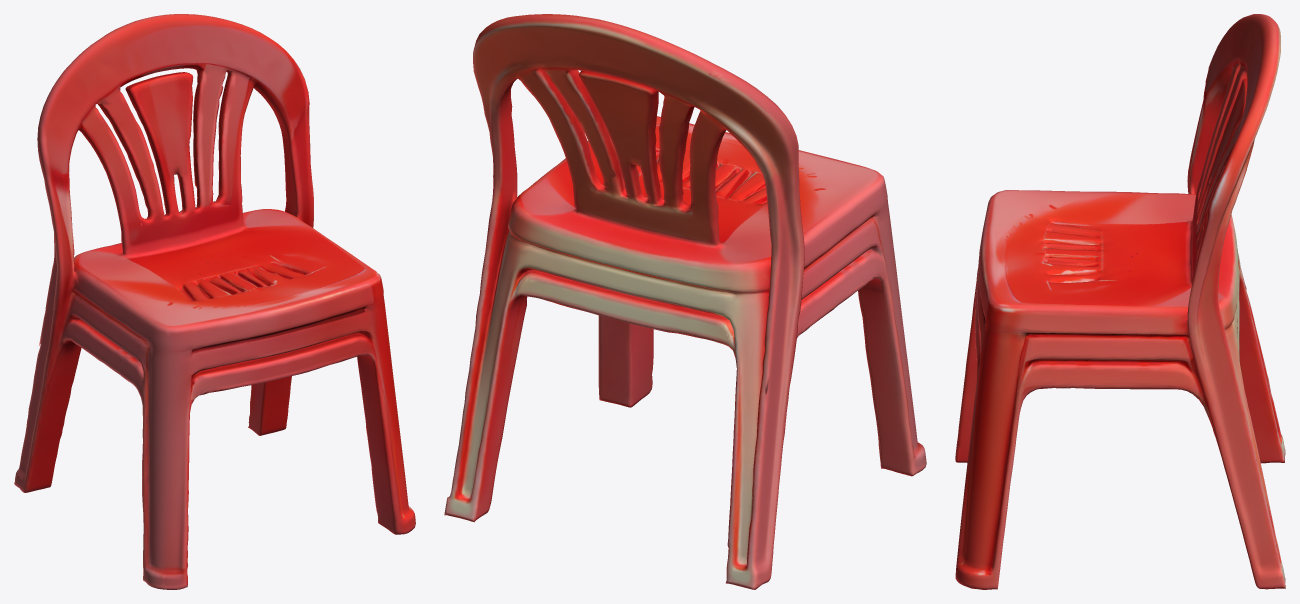
The model's file is kursi-rodin.glb.
3 renders of one model, left to right at view 1: azimuth 30°, elevation 25°; view 2: azimuth 150°, elevation 25°; view 3: azimuth 270°, elevation 25°, orthographic. The views are drawn at different scales.
Parts seen in each view (by area): view 1: model; view 2: model; view 3: model.
Part boxes in pixels (box(x1,y1,x2,y2)): model: box(14, 14, 415, 589); model: box(444, 14, 926, 589); model: box(955, 14, 1285, 589).
Bounding box in the file's own units: 1.16 × 1.84 × 1.14.
Materials: 1 (1 with a texture image).
